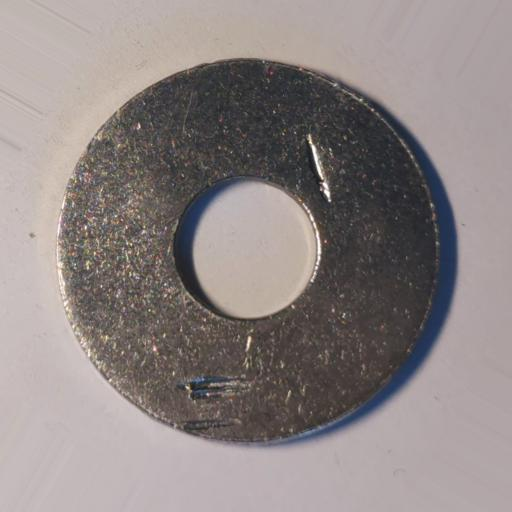scratch: (176, 377, 249, 401), (305, 133, 331, 199), (170, 417, 237, 432)
